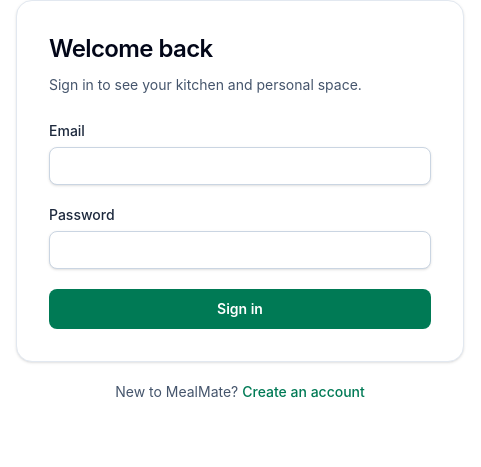
Test: LoginPage › shows validation errors without calling the API
Click the button "Sign in": click(240, 309) [49,289,431,329]
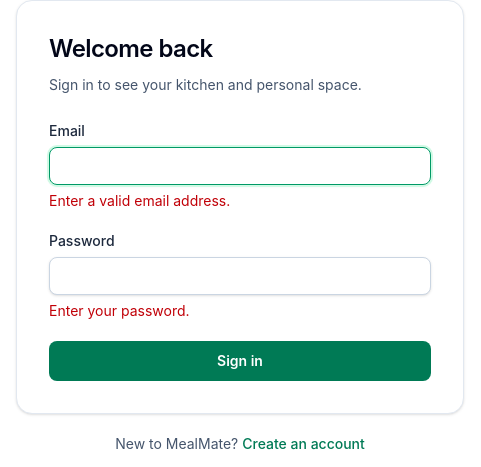
Expected: the text "Enter a valid email address." is shown, [49,192,230,209]
Expected: the text "Enter your password." is shown, [49,302,190,319]
